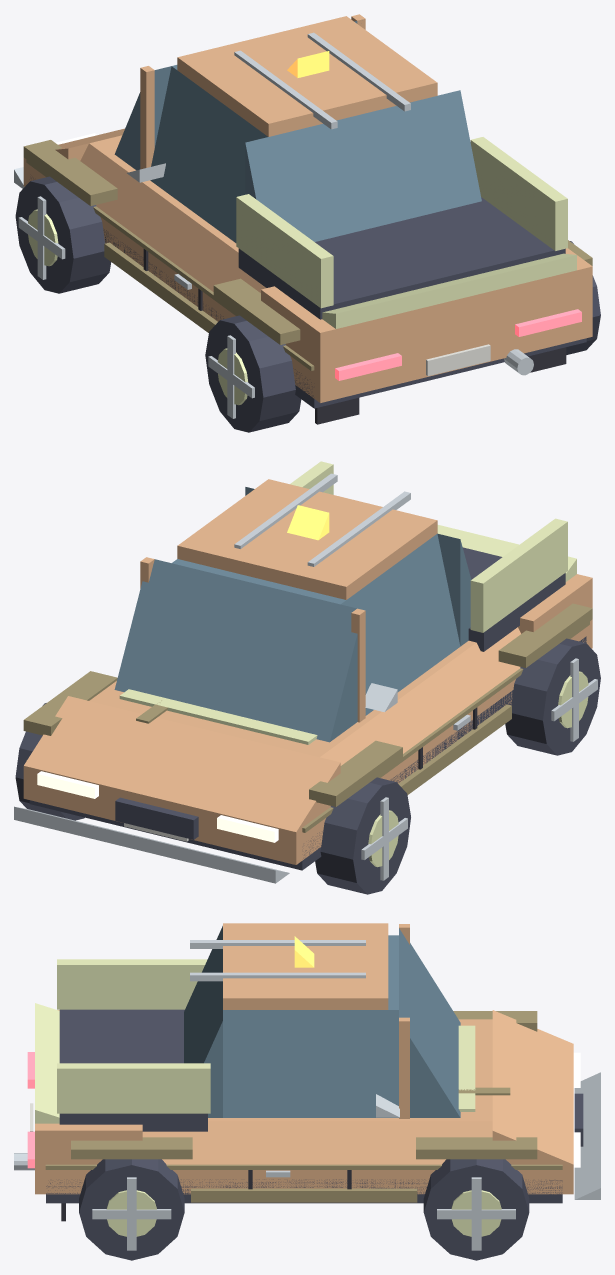
File: plaza_pickup.glb
3 views of the same model, one above another, from view 1: azimuth 30°, elevation 25°; view 2: azimuth 150°, elevation 25°; view 3: azimuth 270°, elevation 25° (orthographic). The views are drawn at different scales.
Visible parts, largest first — view 1: RearWindow.151, Roof.251, PickupBed.014, Tail.051, CabinSideL.048, Body.251, ShoulderL.048, Wheel_RL.211, Wheel_FL.211, BedRail-1.014, BedRail1.014, Ducktail.037 (+23 smaller); view 2: Windshield.151, Nose.048, Roof.251, CabinSideL.048, Body.251, ShoulderL.048, Wheel_FL.211, Wheel_RL.211, BedRail-1.014, Bumper.247, BodyUpper.048, Arch-1False.127 (+25 smaller); view 3: CabinSideR.048, Roof.251, ShoulderR.048, Nose.048, PickupBed.014, BedRail1.014, Windshield.151, Body.251, BedRail-1.014, Wheel_FR.211, Wheel_RR.211, RearWindow.151 (+23 smaller).
Boxes of the visible parts, x1,y1,x2,y2 form: RearWindow.151: (245, 90, 481, 241); Roof.251: (177, 16, 437, 136); PickupBed.014: (238, 197, 565, 319); Tail.051: (261, 248, 592, 370); CabinSideL.048: (150, 66, 267, 242); Body.251: (23, 157, 592, 402); ShoulderL.048: (80, 143, 266, 292); Wheel_RL.211: (205, 315, 301, 432); Wheel_FL.211: (15, 176, 111, 293); BedRail-1.014: (236, 194, 333, 308); BedRail1.014: (470, 137, 567, 250); Ducktail.037: (322, 253, 576, 328); Windshield.151: (114, 559, 357, 742); Nose.048: (24, 696, 340, 831); Roof.251: (177, 479, 437, 599); CabinSideL.048: (341, 534, 460, 715); Body.251: (23, 619, 592, 864); ShoulderL.048: (320, 627, 520, 765); Wheel_FL.211: (315, 777, 410, 894); Wheel_RL.211: (505, 638, 600, 755); BedRail-1.014: (470, 518, 567, 632); Bumper.247: (14, 806, 289, 883); BodyUpper.048: (89, 640, 475, 757); Arch-1False.127: (309, 740, 402, 806); CabinSideR.048: (223, 1010, 398, 1117); Roof.251: (223, 923, 388, 1009); ShoulderR.048: (142, 1121, 492, 1164); Nose.048: (492, 1010, 573, 1164); PickupBed.014: (59, 1009, 207, 1131); BedRail1.014: (57, 1063, 210, 1113); Windshield.151: (399, 928, 460, 1117); Body.251: (35, 1164, 573, 1194); BedRail-1.014: (57, 959, 207, 1009); Wheel_FR.211: (423, 1159, 529, 1260); Wheel_RR.211: (79, 1159, 184, 1260); RearWindow.151: (184, 926, 222, 1117).
Size of the model in its own units: 3.3 by 2.44 by 5.34.
